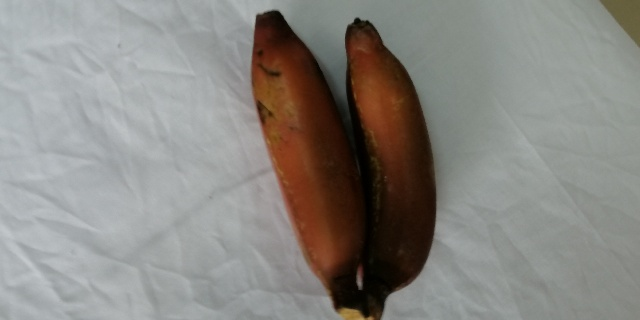banana_red: (245, 8, 366, 320), (345, 20, 440, 320)
